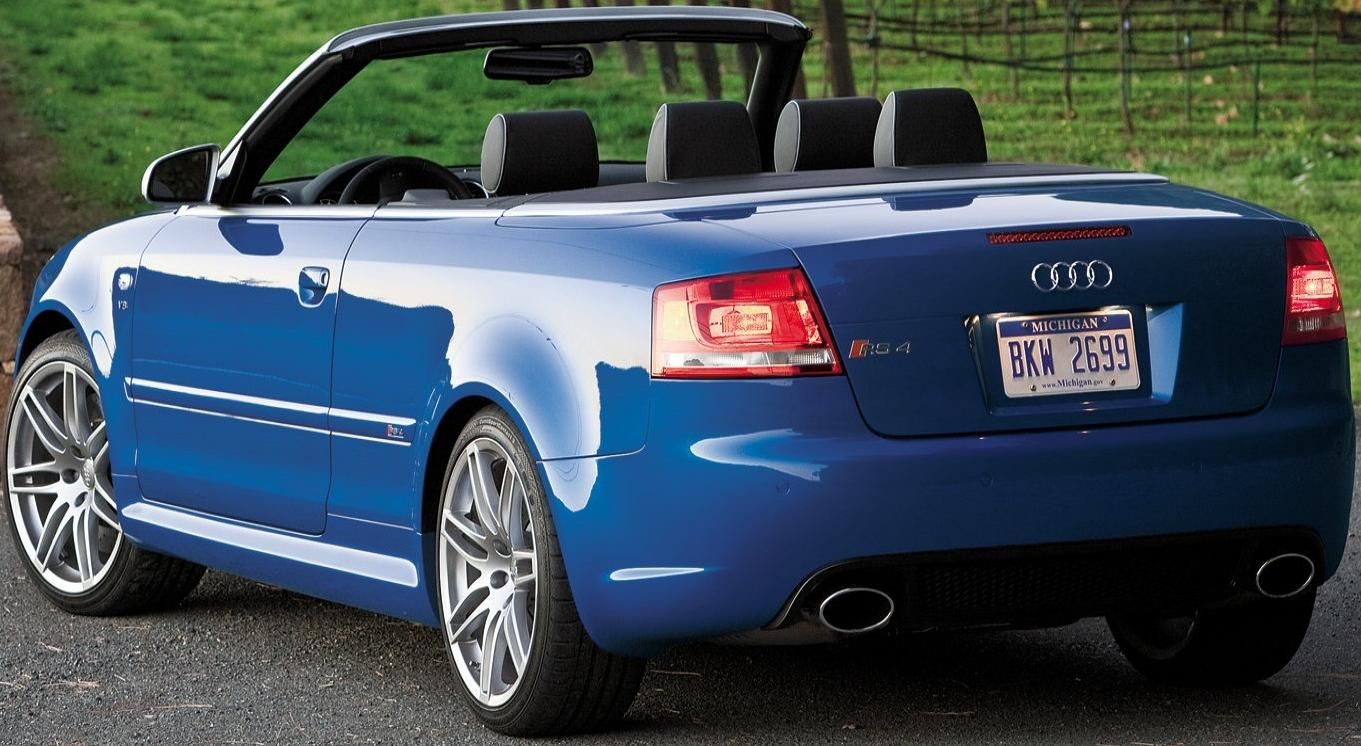back_view: (538, 208, 1352, 653)
backlight: (631, 260, 845, 401)
